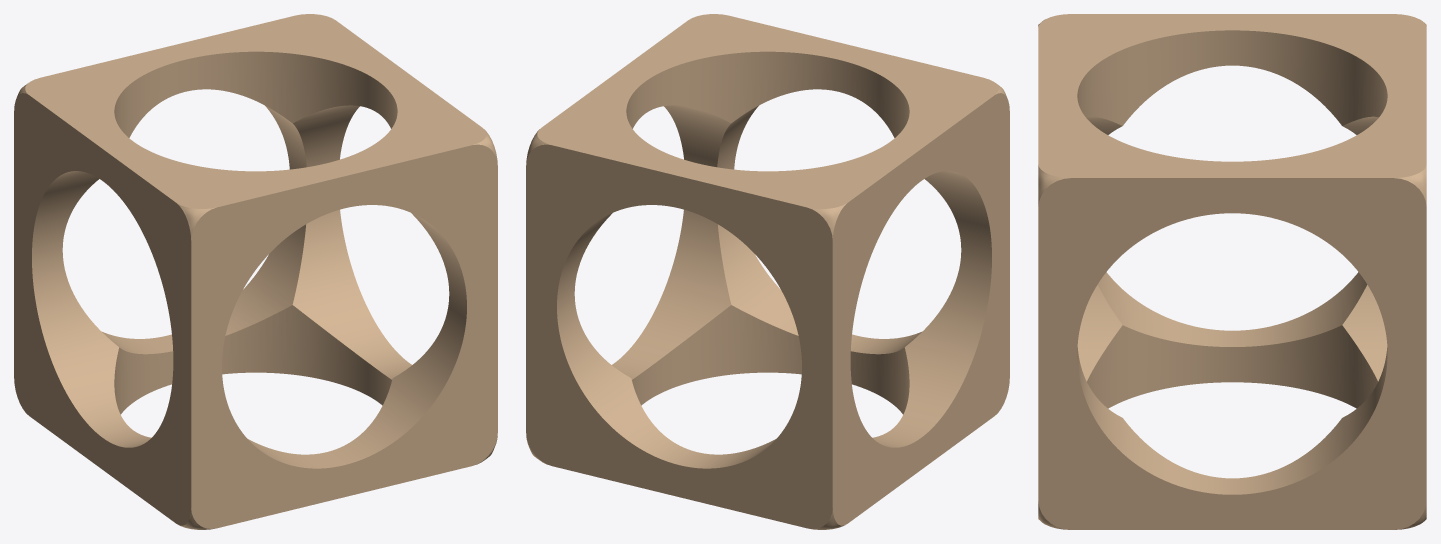
File: hexin1.fbx
3 renders of one model, left to right at view 1: azimuth 30°, elevation 25°; view 2: azimuth 150°, elevation 25°; view 3: azimuth 270°, elevation 25°, orthographic. The views are drawn at different scales.
Parts seen in each view (by area): view 1: 立方体.008; view 2: 立方体.008; view 3: 立方体.008.
Boxes of the visible parts, bbox=[...] form: 立方体.008: bbox=[14, 14, 497, 529]; 立方体.008: bbox=[526, 14, 1009, 529]; 立方体.008: bbox=[1038, 14, 1426, 529].
Bounding box in the file's own units: 78.74 × 78.74 × 78.74.
